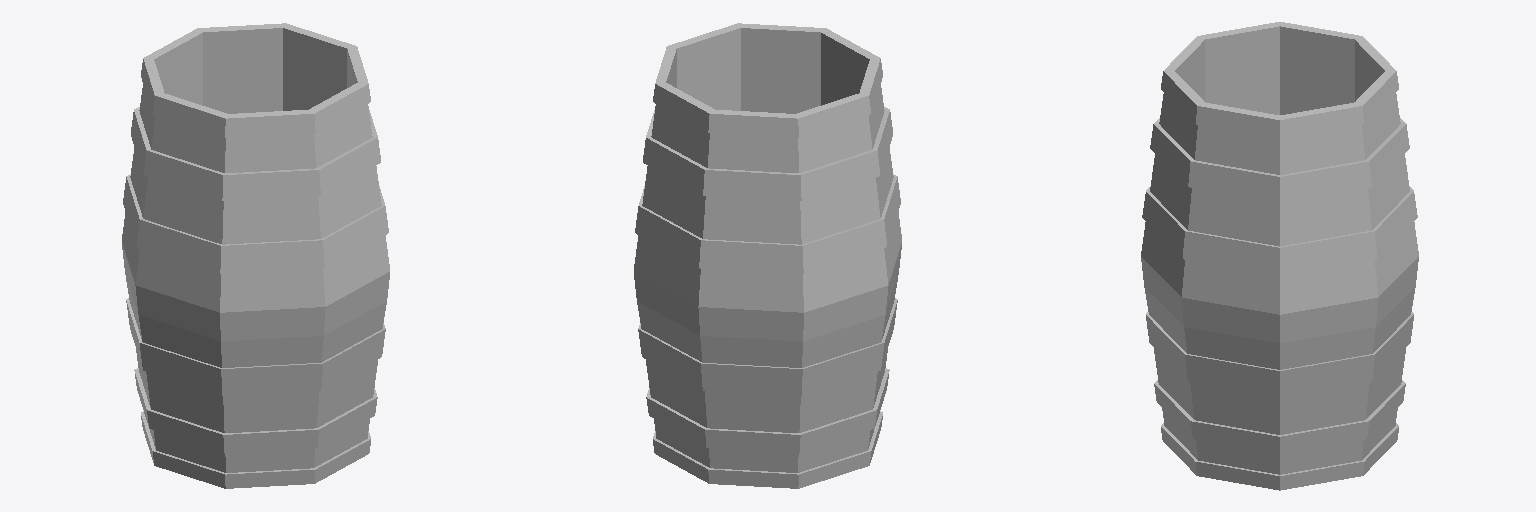
The model's file is barril.obj.
3 renders of one model, left to right at view 1: azimuth 30°, elevation 25°; view 2: azimuth 150°, elevation 25°; view 3: azimuth 270°, elevation 25°, orthographic.
Visible parts, largest first — view 1: pCylinder1; view 2: pCylinder1; view 3: pCylinder1.
Boxes of the visible parts, x1=… form: pCylinder1: x1=122, y1=23, x2=389, y2=488; pCylinder1: x1=634, y1=23, x2=901, y2=488; pCylinder1: x1=1141, y1=22, x2=1418, y2=490.
Bounding box in the file's own units: 7.46 × 10.95 × 7.46.